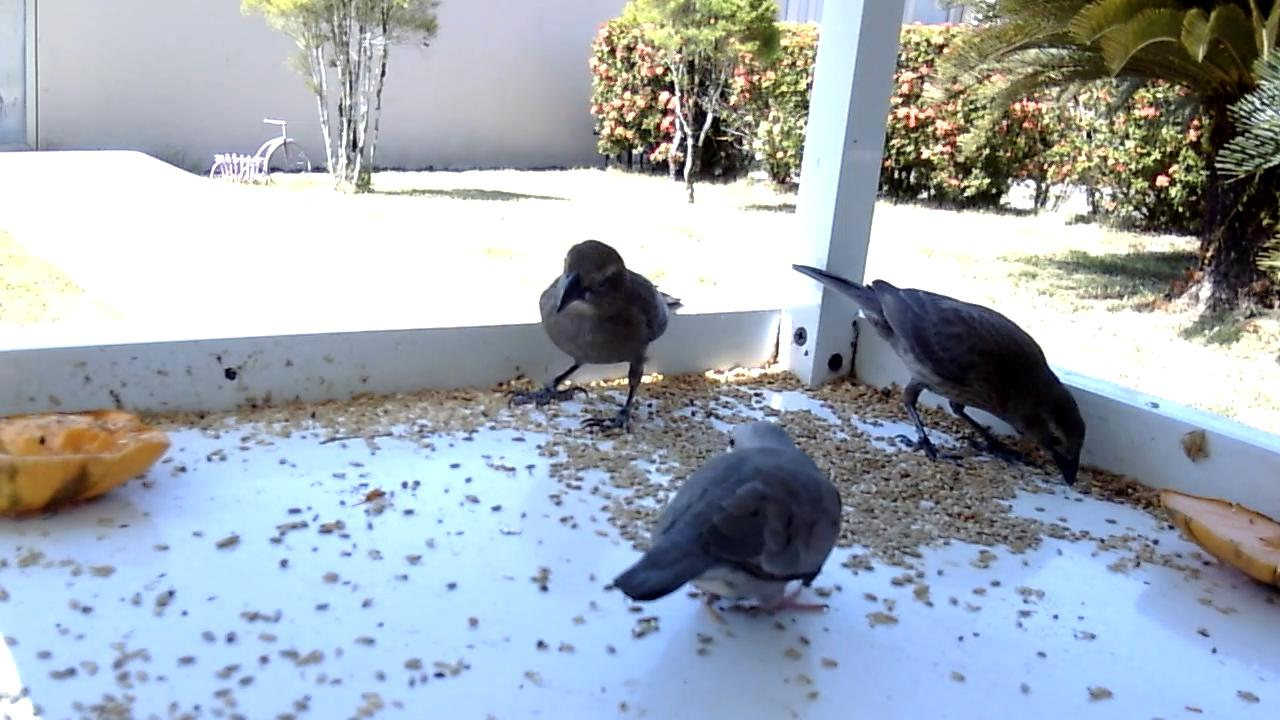chupim: (787, 261, 1090, 493), (502, 236, 685, 441)
rolinha: (611, 417, 848, 621)
